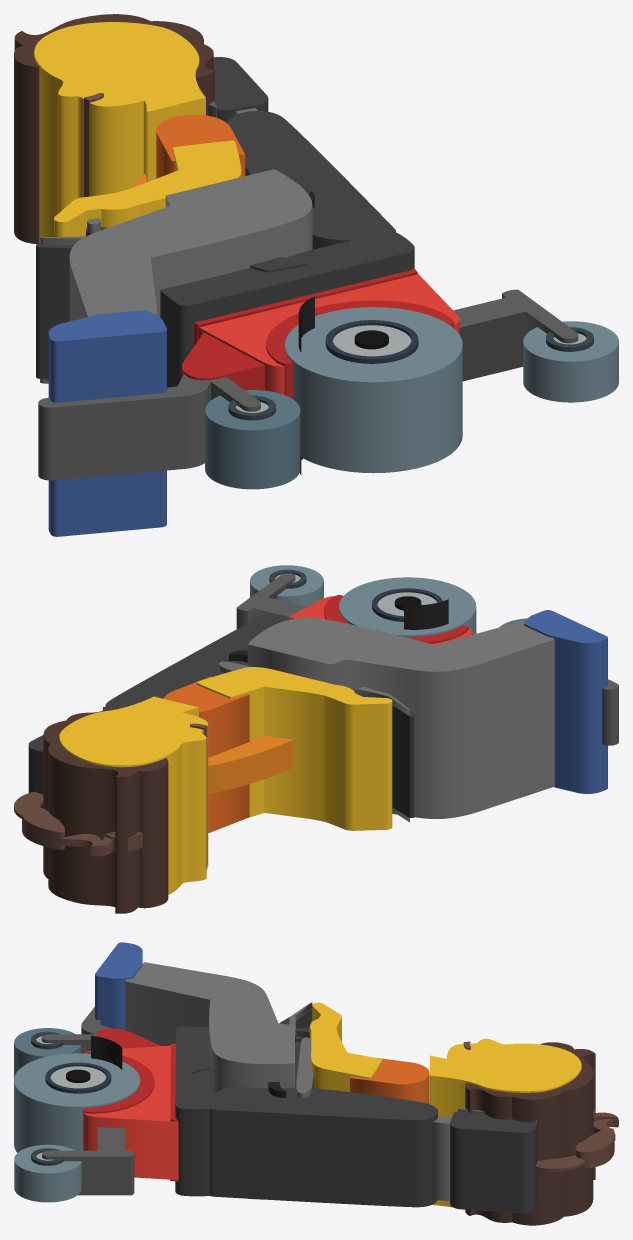
File: emoji_u1f9d1_200d_1f9bc.glb
3 renders of one model, top to bottom at view 1: azimuth 30°, elevation 25°; view 2: azimuth 150°, elevation 25°; view 3: azimuth 270°, elevation 25°, orthographic. The views are drawn at different scales.
Parts seen in each view (by area): view 1: emoji_u1f9d1_200d_1f9bc; view 2: emoji_u1f9d1_200d_1f9bc; view 3: emoji_u1f9d1_200d_1f9bc.
Part boxes in pixels (<box>): emoji_u1f9d1_200d_1f9bc: <box>14,14,618,536</box>; emoji_u1f9d1_200d_1f9bc: <box>14,565,618,913</box>; emoji_u1f9d1_200d_1f9bc: <box>14,942,618,1225</box>.
Size of the model in its own units: 0.024 by 0.0086 by 0.034.
